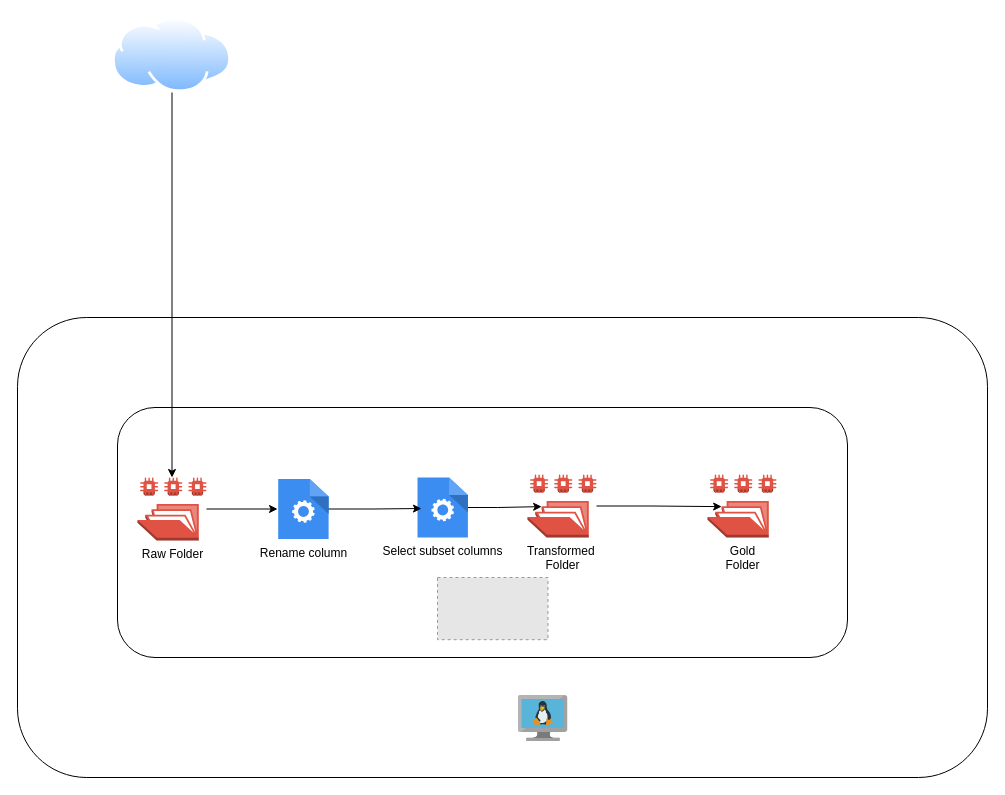
Image size: 1005x795. Some labels were removed from this diagram. Grey dashed boxes stand in for pictures. The shapes that lost their labels are listed below. From the top down, each one's centre as x and y in pixels, then its label:
At (171,54): "Internet".
At (543,718): "Linux VM".
